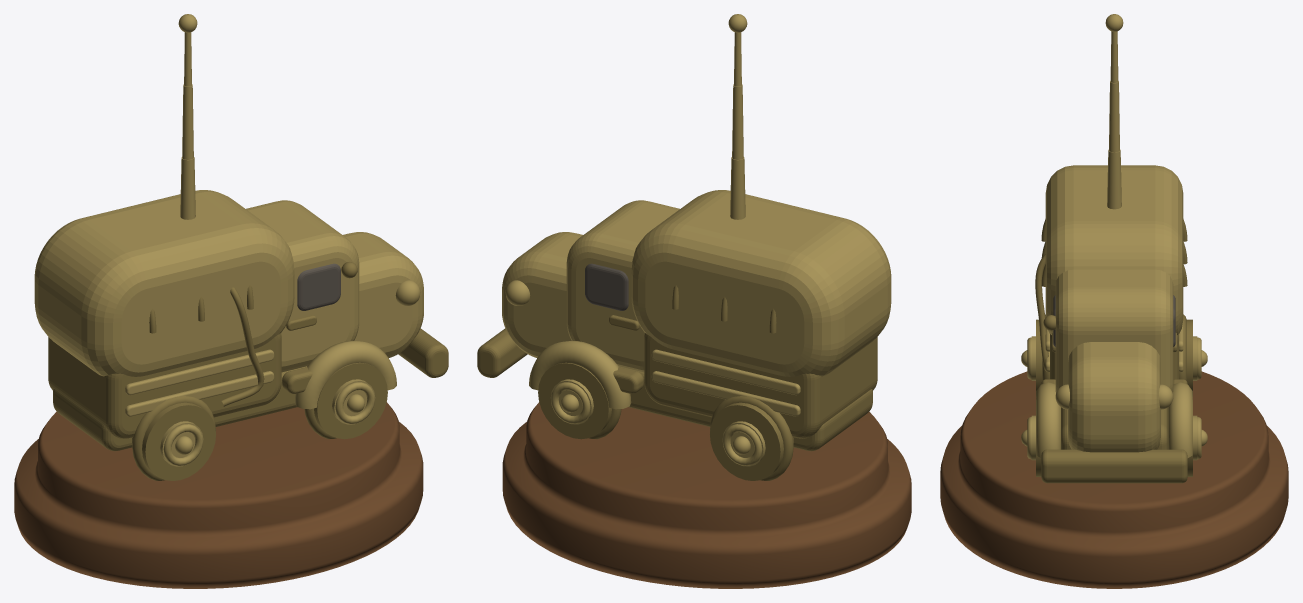
File: ch5-piece-radio-truck.glb
The picture shows the model from 3 angles, left to right: view 1: azimuth 30°, elevation 25°; view 2: azimuth 150°, elevation 25°; view 3: azimuth 270°, elevation 25°; orthographic projection. The views are drawn at different scales.
Visible parts, largest first — view 1: base, tilt_canvas, cab, bed, hood, tire (×2), bed_slat (×2), fender, chassis, window_side, rim_ring (×2), bumper (+5 smaller); view 2: base, tilt_canvas, bed, cab, hood, tire (×2), bed_slat (×2), fender, chassis, window_side, rim_ring (×2), bumper (+4 smaller); view 3: base, tilt_canvas, hood, cab, bumper, fender (×2), antenna_1, antenna_2, cable, chassis, tire.
Part boxes in pixels (x1,y1,x2,y2): base: (14,402,423,588); tilt_canvas: (34,190,294,376); cab: (246,200,359,372); bed: (48,333,281,438); hood: (343,232,423,357); tire (×2): (132,362,387,480); bed_slat (×2): (125,349,274,416); fender: (294,341,396,409); chassis: (53,366,306,451); window_side: (297,263,340,310); rim_ring (×2): (163,382,374,465); bumper: (398,328,448,377); base: (502,402,911,588); tilt_canvas: (631,190,891,376); bed: (644,333,877,438); cab: (566,200,679,372); hood: (502,232,582,357); tire (×2): (538,362,793,480); bed_slat (×2): (651,349,800,416); fender: (529,341,631,409); chassis: (619,366,872,451); window_side: (585,263,628,310); rim_ring (×2): (551,382,762,465); bumper: (477,328,527,377); base: (940,371,1288,588); tilt_canvas: (1045,165,1183,334); hood: (1068,342,1160,452); cab: (1055,269,1173,393); bumper: (1041,449,1187,483); fender (×2): (1036,382,1192,457); antenna_1: (1107,149,1121,209); antenna_2: (1109,81,1119,152); cable: (1035,254,1048,370); chassis: (1061,407,1167,449); tire: (1186,319,1192,396).
Size of the model in its own units: 0.1468 by 0.1872 by 0.124.
